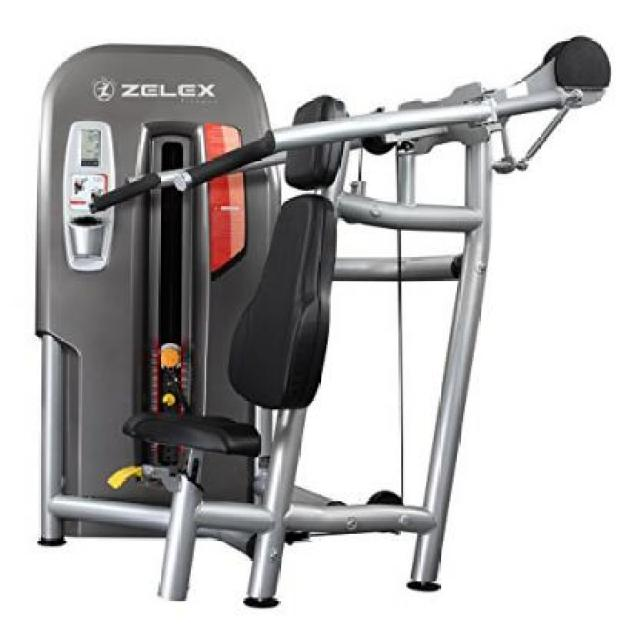shoulder press machine: (30, 9, 628, 614)
